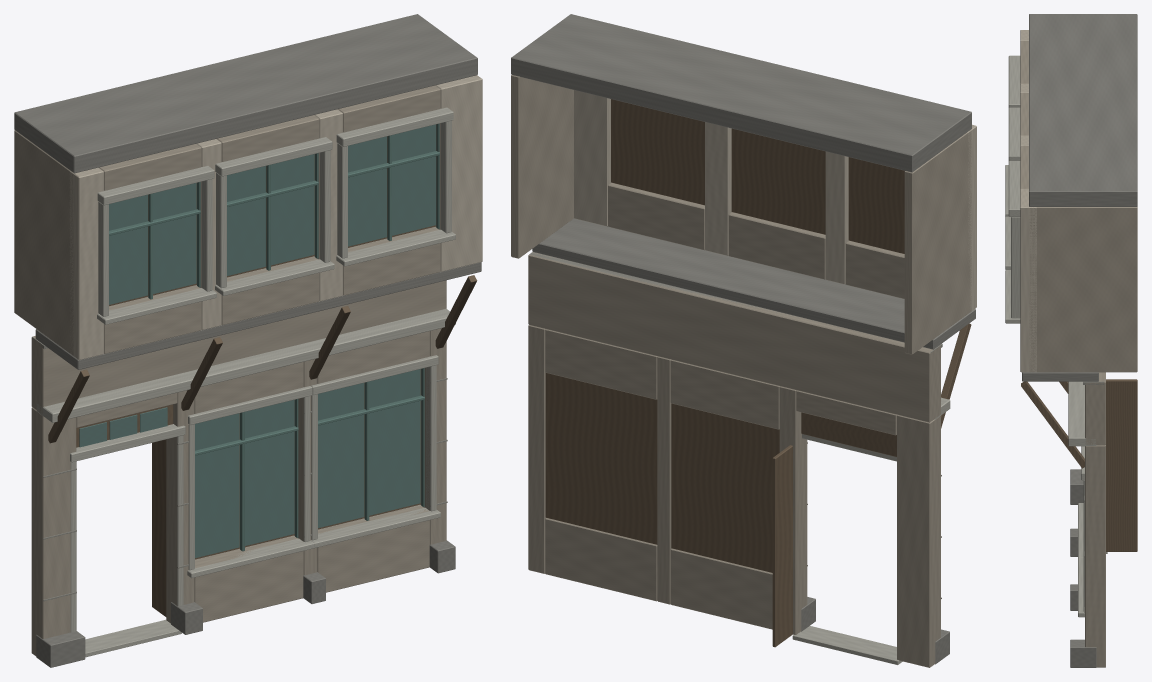
The model's file is F12_OverhangingRoom_visual.glb.
3 views of the same model, side by side, from view 1: azimuth 30°, elevation 25°; view 2: azimuth 150°, elevation 25°; view 3: azimuth 270°, elevation 25° (orthographic). The views are drawn at different scales.
Parts seen in each view (by area): view 1: F12_OverhangingRoom__VIS; view 2: F12_OverhangingRoom__VIS; view 3: F12_OverhangingRoom__VIS.
Boxes of the visible parts, left/top/right/bottom form: F12_OverhangingRoom__VIS: left=14, top=14, right=482, bottom=667; F12_OverhangingRoom__VIS: left=511, top=14, right=976, bottom=667; F12_OverhangingRoom__VIS: left=1005, top=14, right=1137, bottom=667.
Bounding box in the file's own units: 24.08 × 30.22 × 7.55.
Materials: 1 (1 with a texture image).
